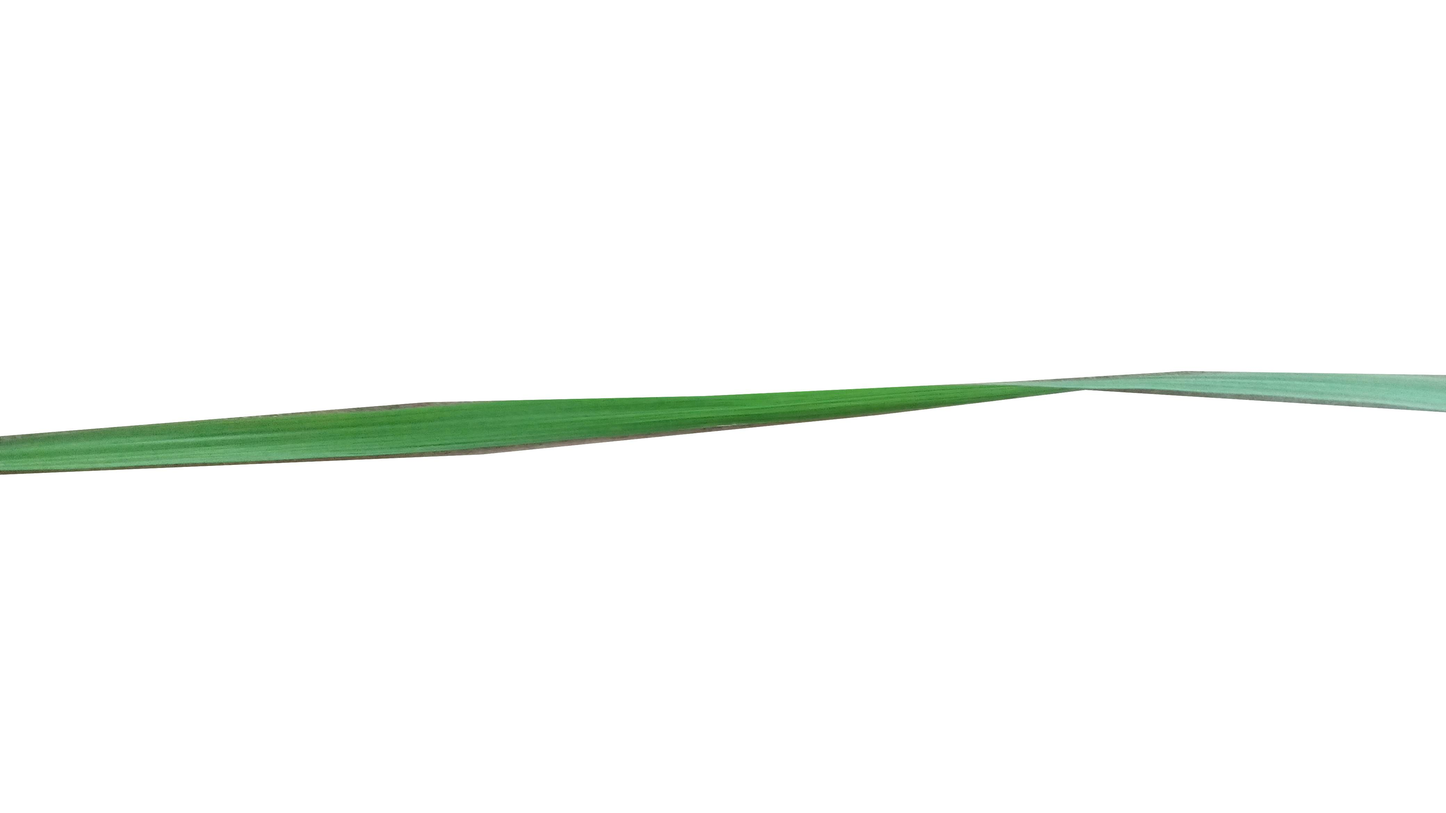Healthy: (0, 365, 1446, 474)
